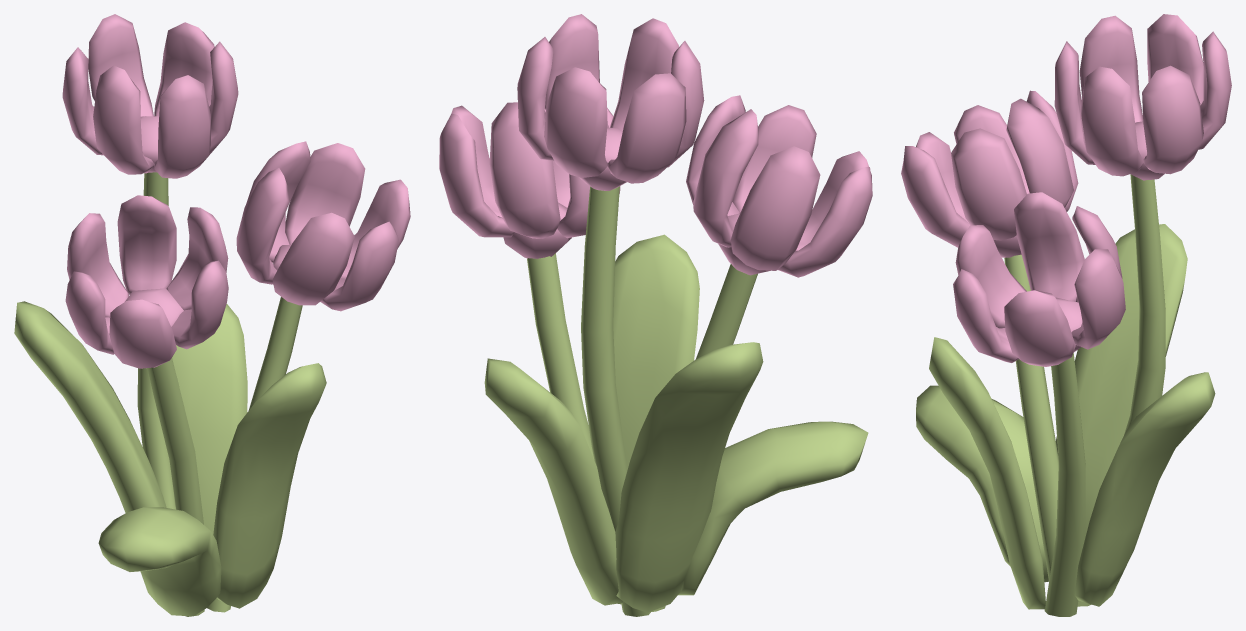
File: Flower_07.fbx
3 views of the same model, side by side, from view 1: azimuth 30°, elevation 25°; view 2: azimuth 150°, elevation 25°; view 3: azimuth 270°, elevation 25° (orthographic). The views are drawn at different scales.
Parts seen in each view (by area): view 1: polySurface976; view 2: polySurface976; view 3: polySurface976.
Part boxes in pixels (x1,y1,x2,y2): polySurface976: [14, 14, 410, 616]; polySurface976: [439, 14, 872, 616]; polySurface976: [901, 14, 1231, 616].
Size of the model in its own units: 42.68 by 62.14 by 33.23.
